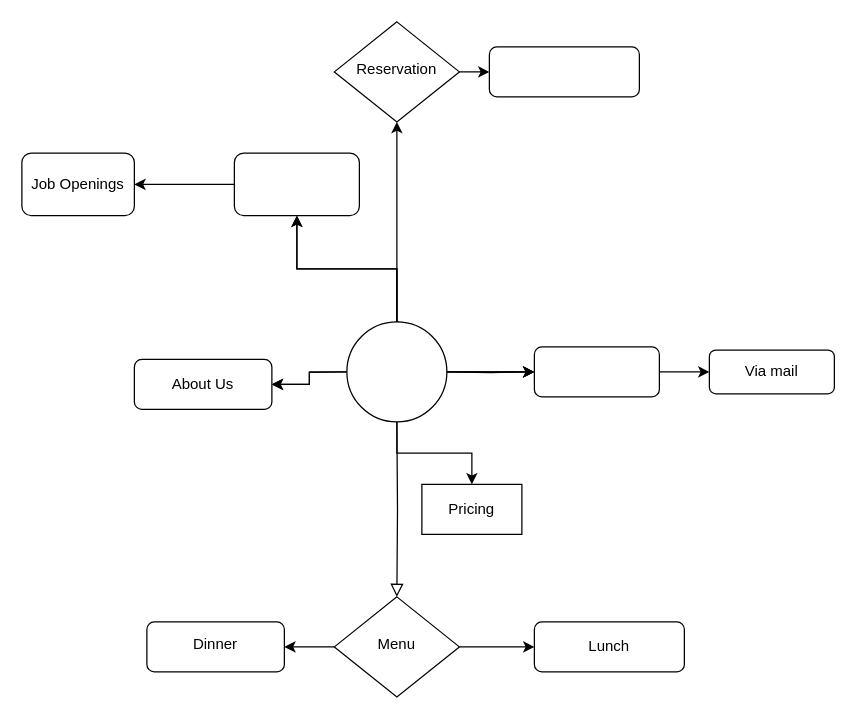
This 856x719 diagram has some shape labels left out. The centre of each missing label's shape, as x and y in pixels:
Book a table: the point at 563,71
Contact Us: the point at 596,371
Home Page: the point at 396,371
Team: the point at 296,184
